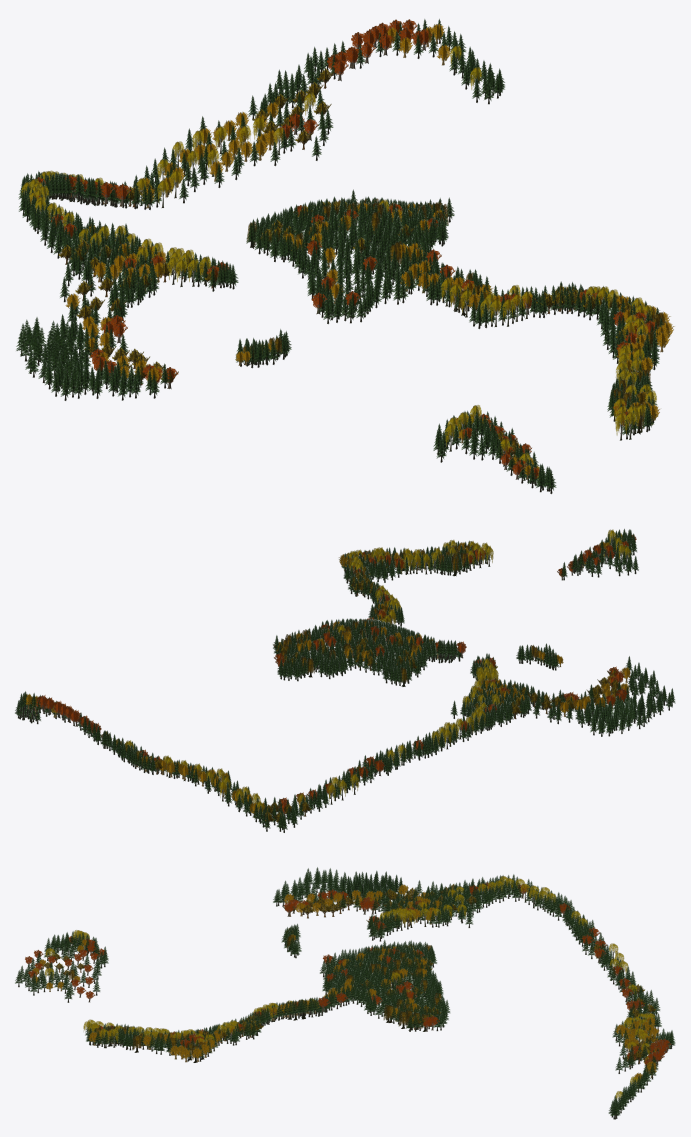
File: lowpoly_trees_5.glb
3 views of the same model, one above another, from view 1: azimuth 30°, elevation 25°; view 2: azimuth 150°, elevation 25°; view 3: azimuth 270°, elevation 25° (orthographic). The views are drawn at different scales.
Visible parts, largest first — view 1: fir_tree.png__, tree_d.png__, birch_tree.png__, tree_c.png__, tree_b.png__, willow_tree.png__; view 2: fir_tree.png__, birch_tree.png__, tree_c.png__, tree_d.png__, tree_b.png__, willow_tree.png__; view 3: fir_tree.png__, tree_d.png__, birch_tree.png__, tree_c.png__, tree_b.png__, willow_tree.png__.
Boxes of the visible parts, <box> form: fir_tree.png__: <box>16,19,663,493</box>; tree_d.png__: <box>65,23,674,479</box>; birch_tree.png__: <box>21,45,656,480</box>; tree_c.png__: <box>30,19,658,483</box>; tree_b.png__: <box>58,68,648,461</box>; willow_tree.png__: <box>242,198,663,446</box>; fir_tree.png__: <box>15,529,675,832</box>; birch_tree.png__: <box>31,529,631,821</box>; tree_c.png__: <box>35,535,636,818</box>; tree_d.png__: <box>22,541,630,817</box>; tree_b.png__: <box>100,551,619,822</box>; willow_tree.png__: <box>280,544,554,686</box>; fir_tree.png__: <box>15,867,675,1119</box>; tree_d.png__: <box>32,884,660,1082</box>; birch_tree.png__: <box>44,876,654,1099</box>; tree_c.png__: <box>25,882,671,1073</box>; tree_b.png__: <box>43,884,658,1067</box>; willow_tree.png__: <box>69,930,441,1062</box>.
Bounding box in the file's own units: 572 × 108 × 700.
Materials: 6 (6 with a texture image).
